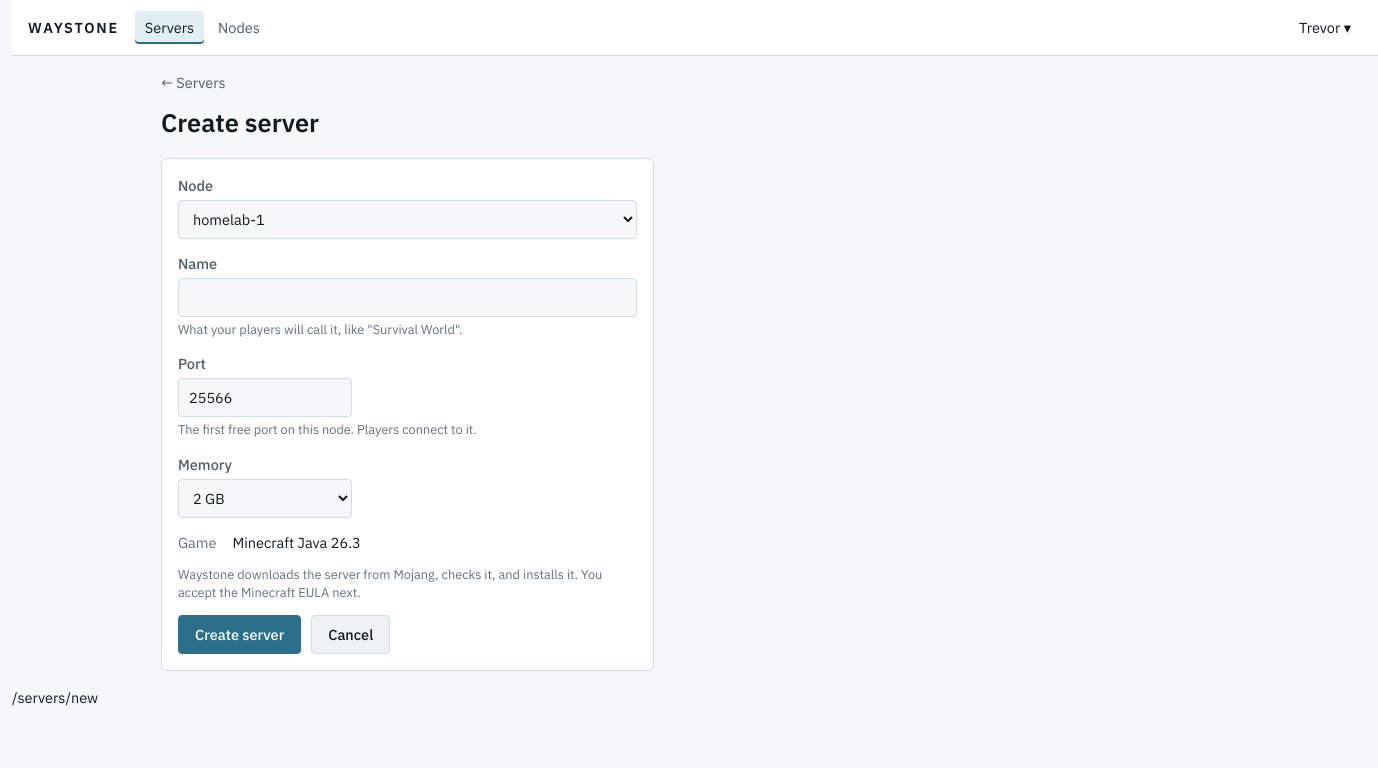
Scenario: create server (D9) › checks the fields before sending anything
Expected: the dropdown labelled "Node" is shown, x1=178 y1=200 x2=637 y2=239
Replace the text in the field labelled "Port" with "80" at (265, 398), box x1=178 y1=378 x2=352 y2=417
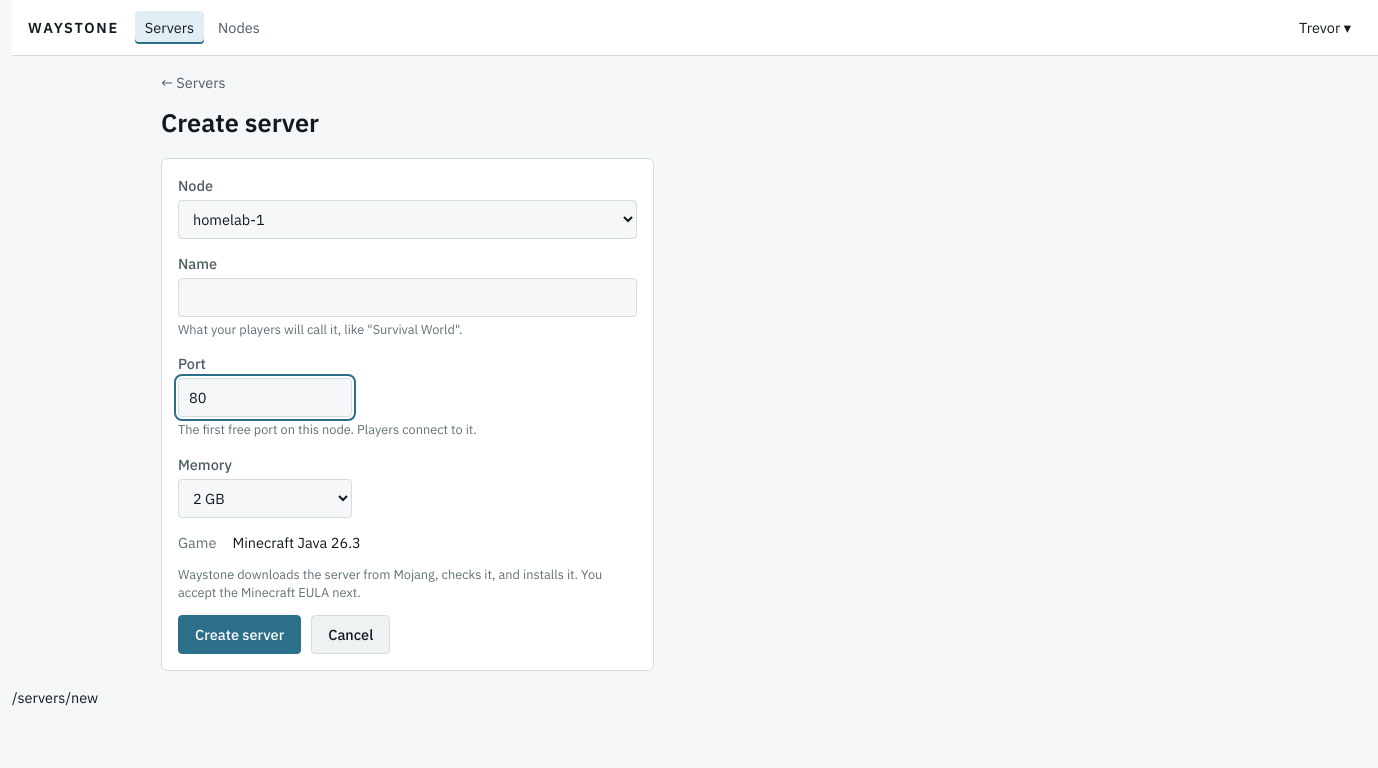
Click the button "Create server" at (240, 635), box x1=178 y1=615 x2=301 y2=654
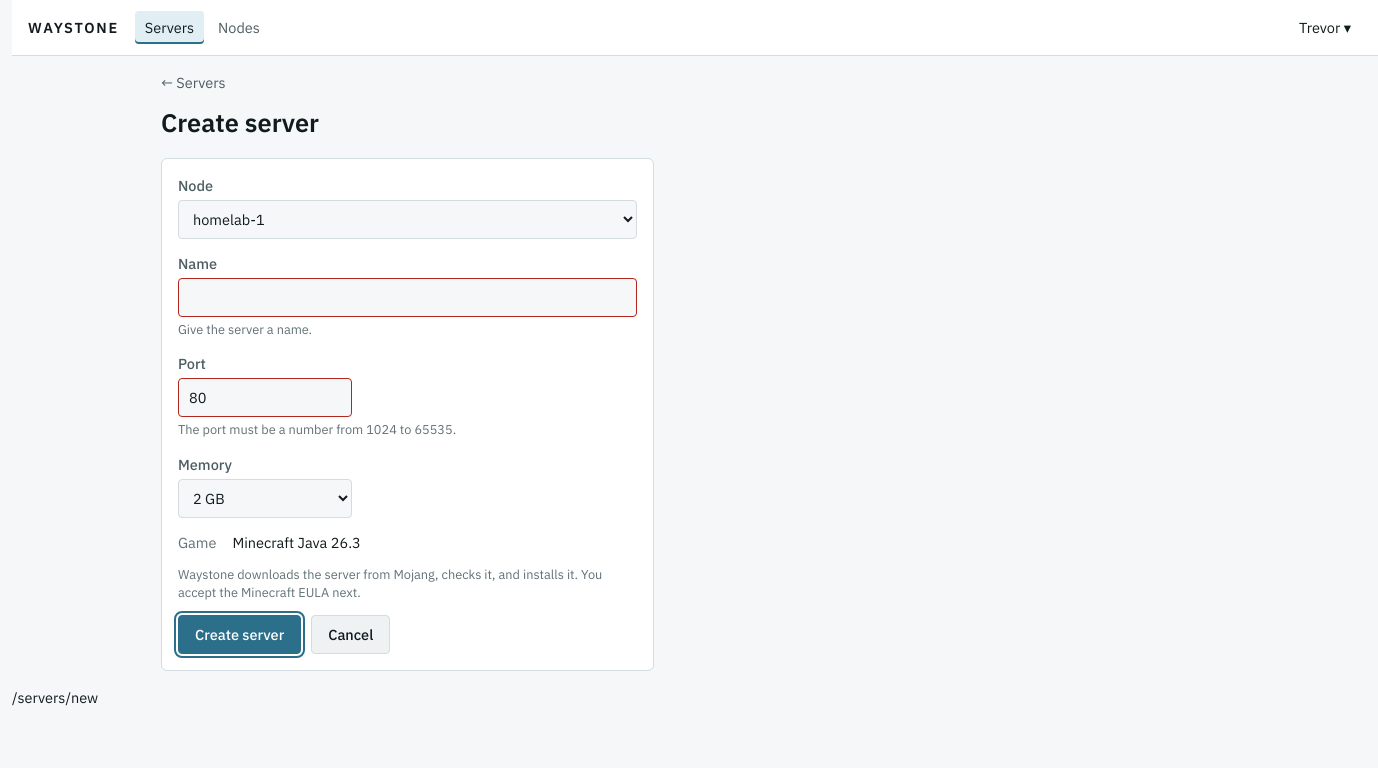
Expected: the text "Give the server a name." is shown, x1=178 y1=321 x2=312 y2=338
Expected: the text "The port must be a number from 1024 to 65535." is shown, x1=178 y1=421 x2=456 y2=438
